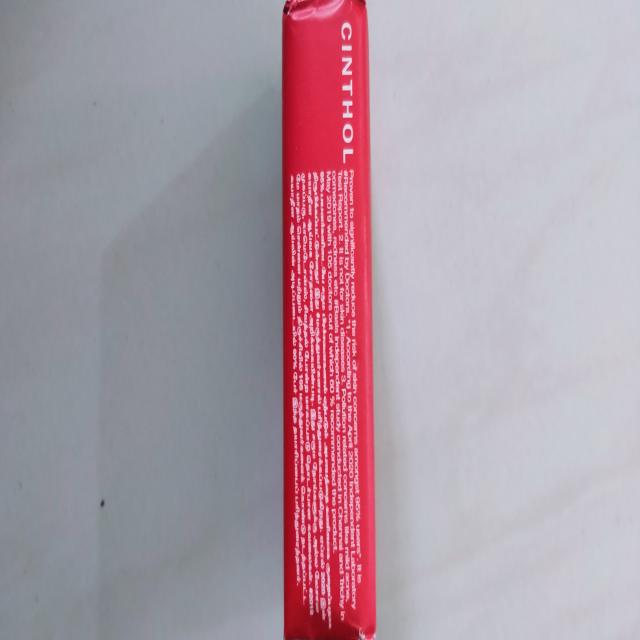soap: (276, 0, 378, 640)
